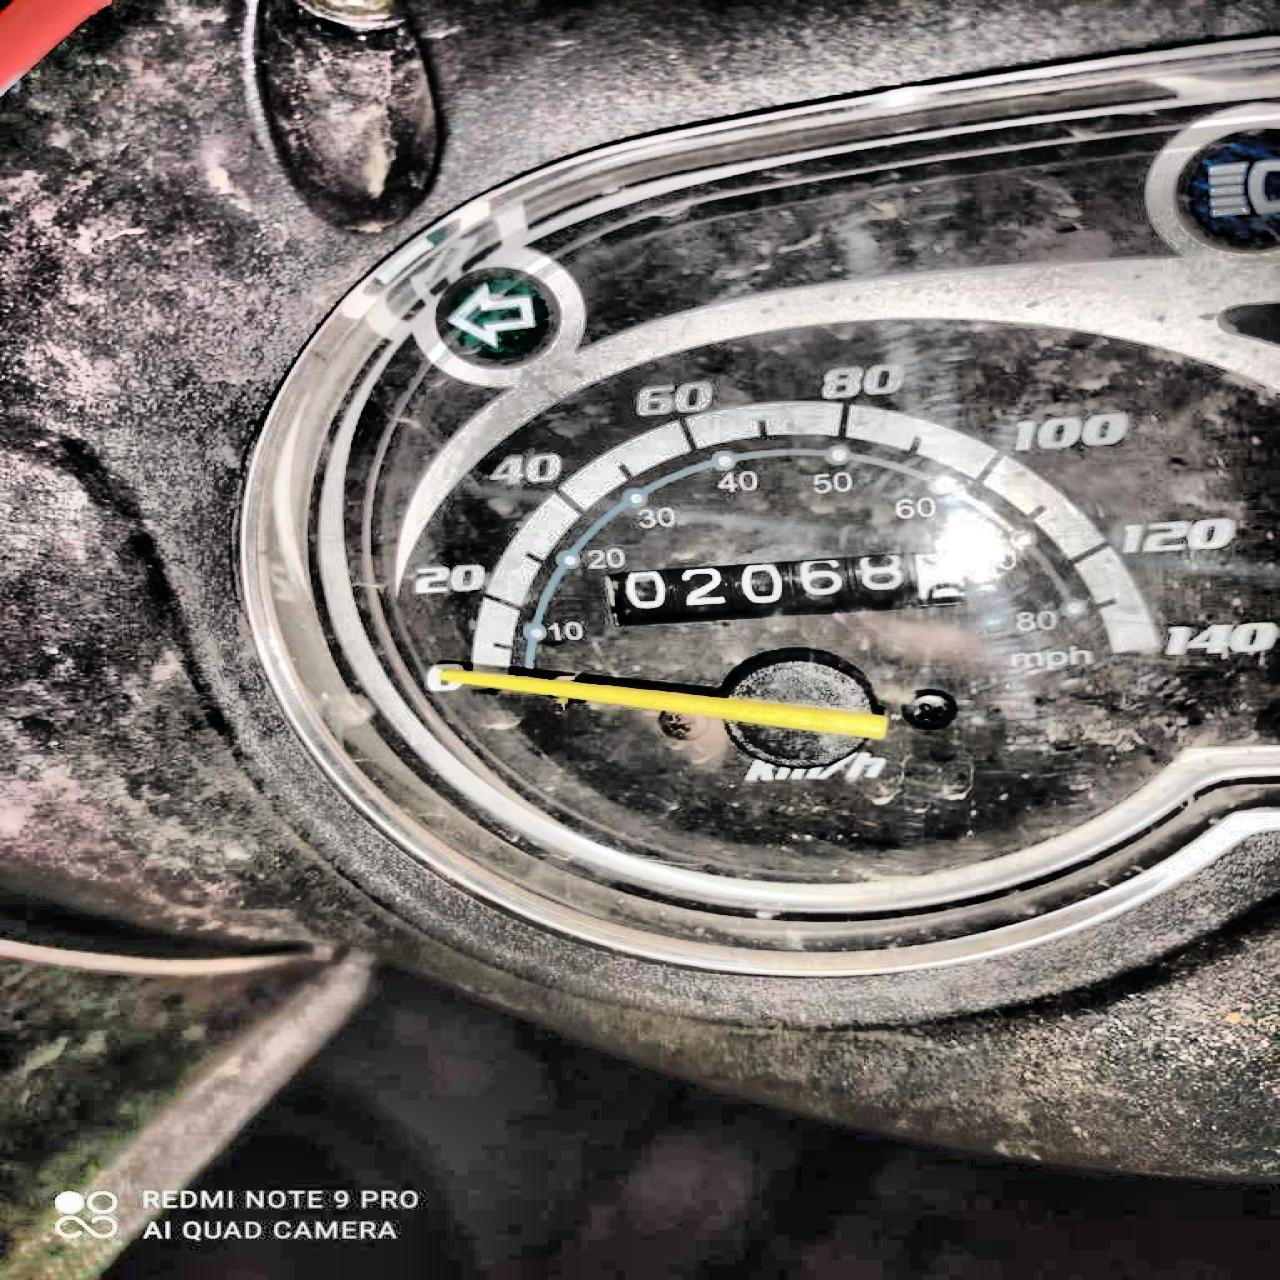0: (620, 570, 670, 610), (737, 561, 784, 604), (604, 547, 625, 566)
2: (672, 564, 729, 607)
6: (919, 578, 969, 618), (797, 554, 842, 599)
8: (855, 550, 906, 594)
odometer: (600, 547, 972, 628)
